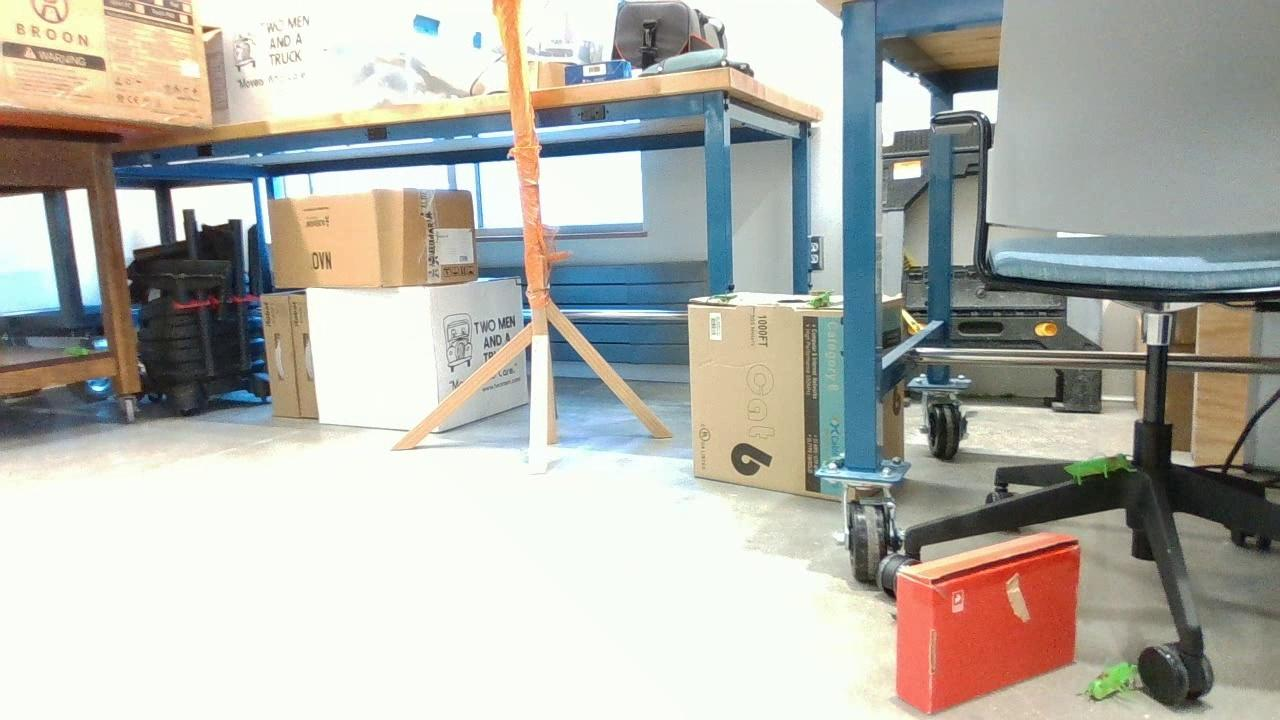grasshopper: (1061, 451, 1131, 485), (1077, 664, 1138, 703), (805, 296, 832, 310), (62, 346, 89, 357)
